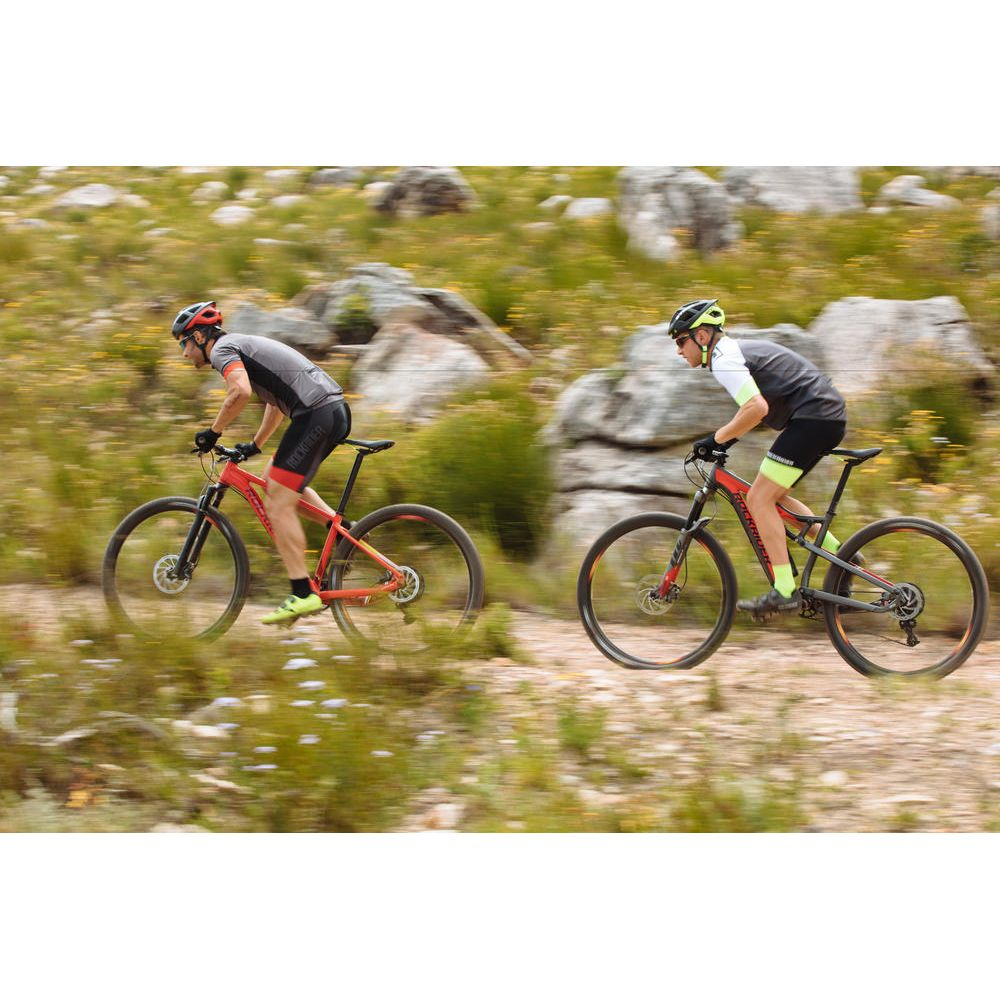MountainBike: (568, 437, 989, 683), (100, 427, 495, 631)
